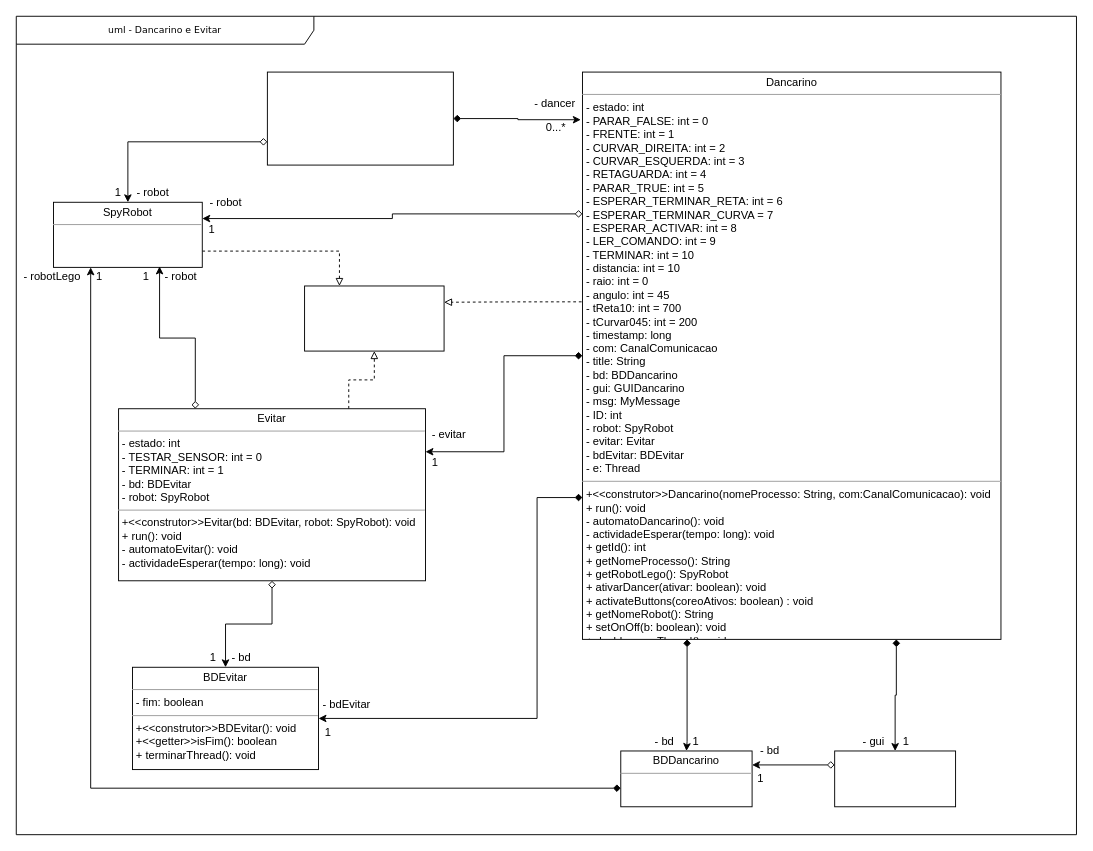
The diagram is 1093 pixels wide and 851 high, and some of its shapes have lost their labels. Each missing label, with the centre of its shape:
"<<Interface>> Runnable" goes at (x=374, y=318).
"GUIDancarino" goes at (x=895, y=778).
"GUITP2" goes at (x=359, y=118).
